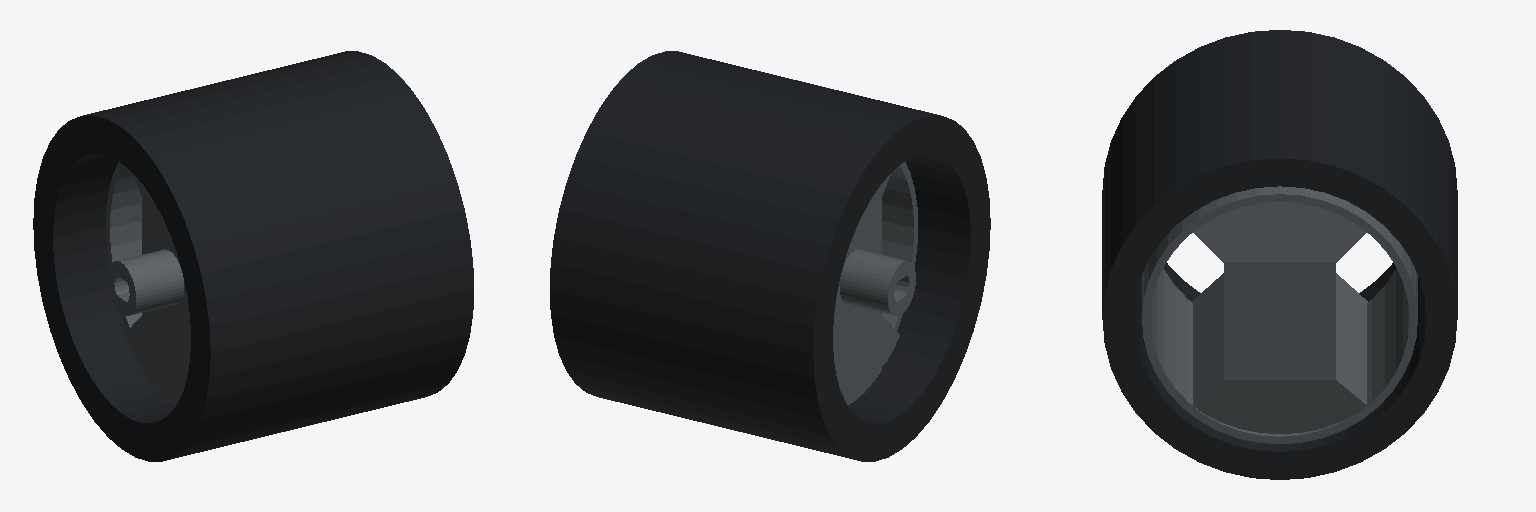
Rendered from wheel.obj.
3 views of the same model, side by side, from view 1: azimuth 30°, elevation 25°; view 2: azimuth 150°, elevation 25°; view 3: azimuth 270°, elevation 25° (orthographic).
Parts seen in each view (by area): view 1: obj_0; view 2: obj_0; view 3: obj_0.
Part boxes in pixels (x1,y1,x2,y2): obj_0: (33,51,473,461); obj_0: (550,51,990,461); obj_0: (1102,30,1457,479).
Bounding box in the file's own units: 12.2 × 14 × 14.